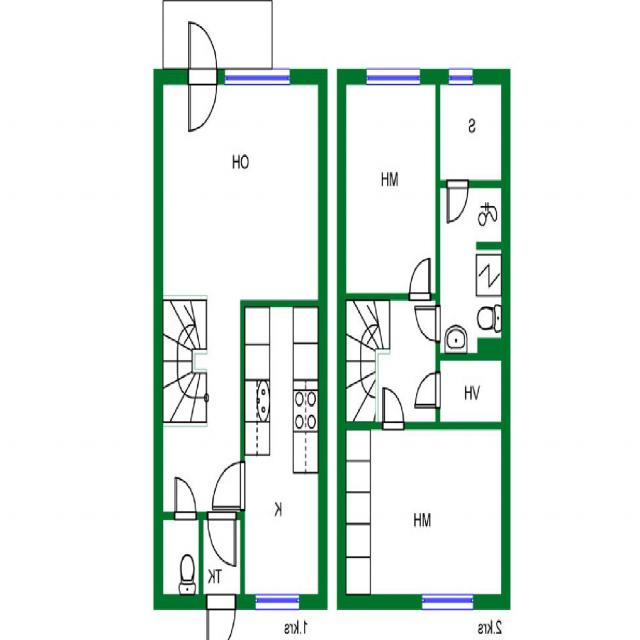door: (189, 68, 217, 130), (189, 23, 217, 83), (213, 461, 245, 507), (208, 511, 235, 565), (207, 593, 235, 640), (175, 477, 196, 518), (409, 258, 430, 299), (415, 306, 440, 340), (447, 180, 467, 222), (415, 372, 440, 405), (384, 388, 404, 428)
